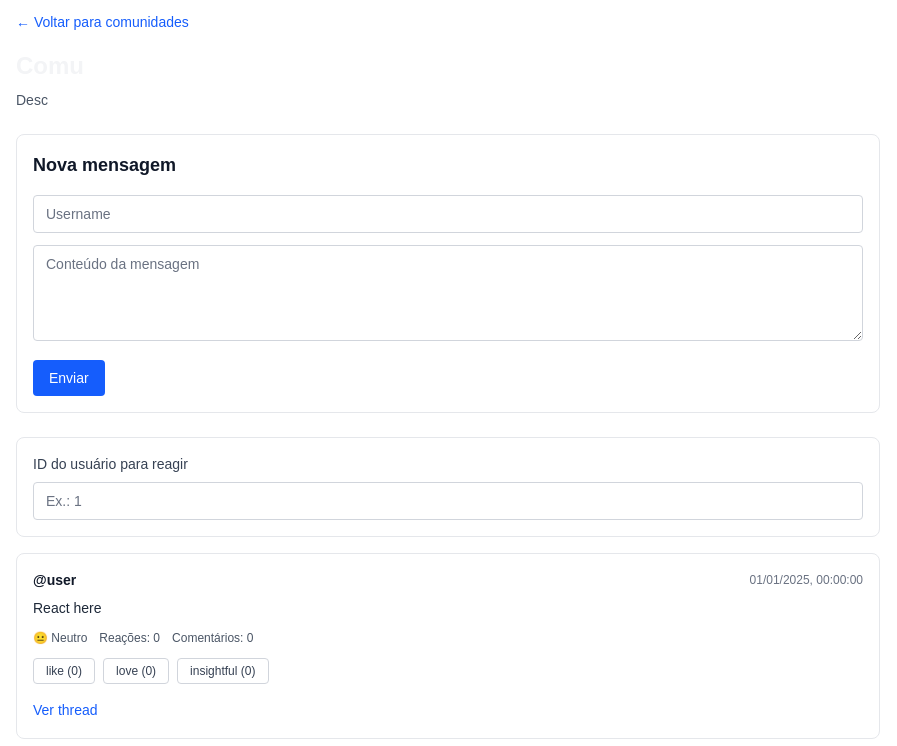
Test: CommunityTimelinePage › should require reaction user id before reacting
Expected: the text "React here" is shown, [33,600,102,616]
Click the button "like (0)". click: [64, 671]
box: [33,658,95,684]
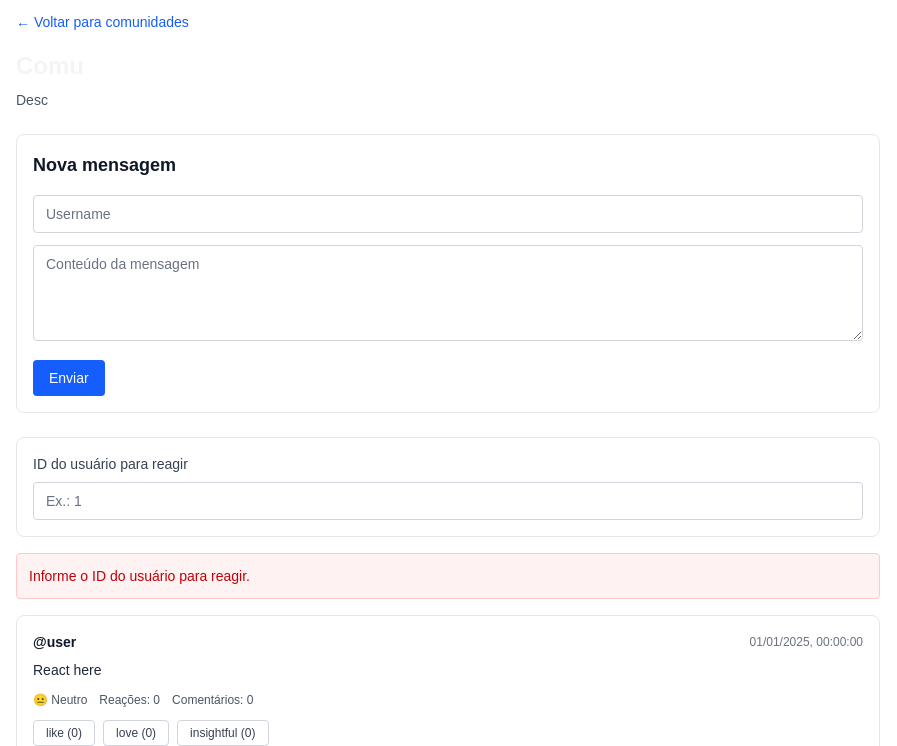
Now the text "Informe o ID do usuário para reagir." is shown, box [16,553,880,599]
